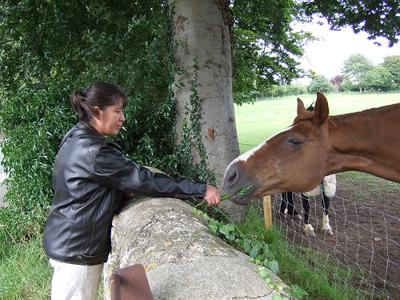person: (41, 81, 221, 300)
